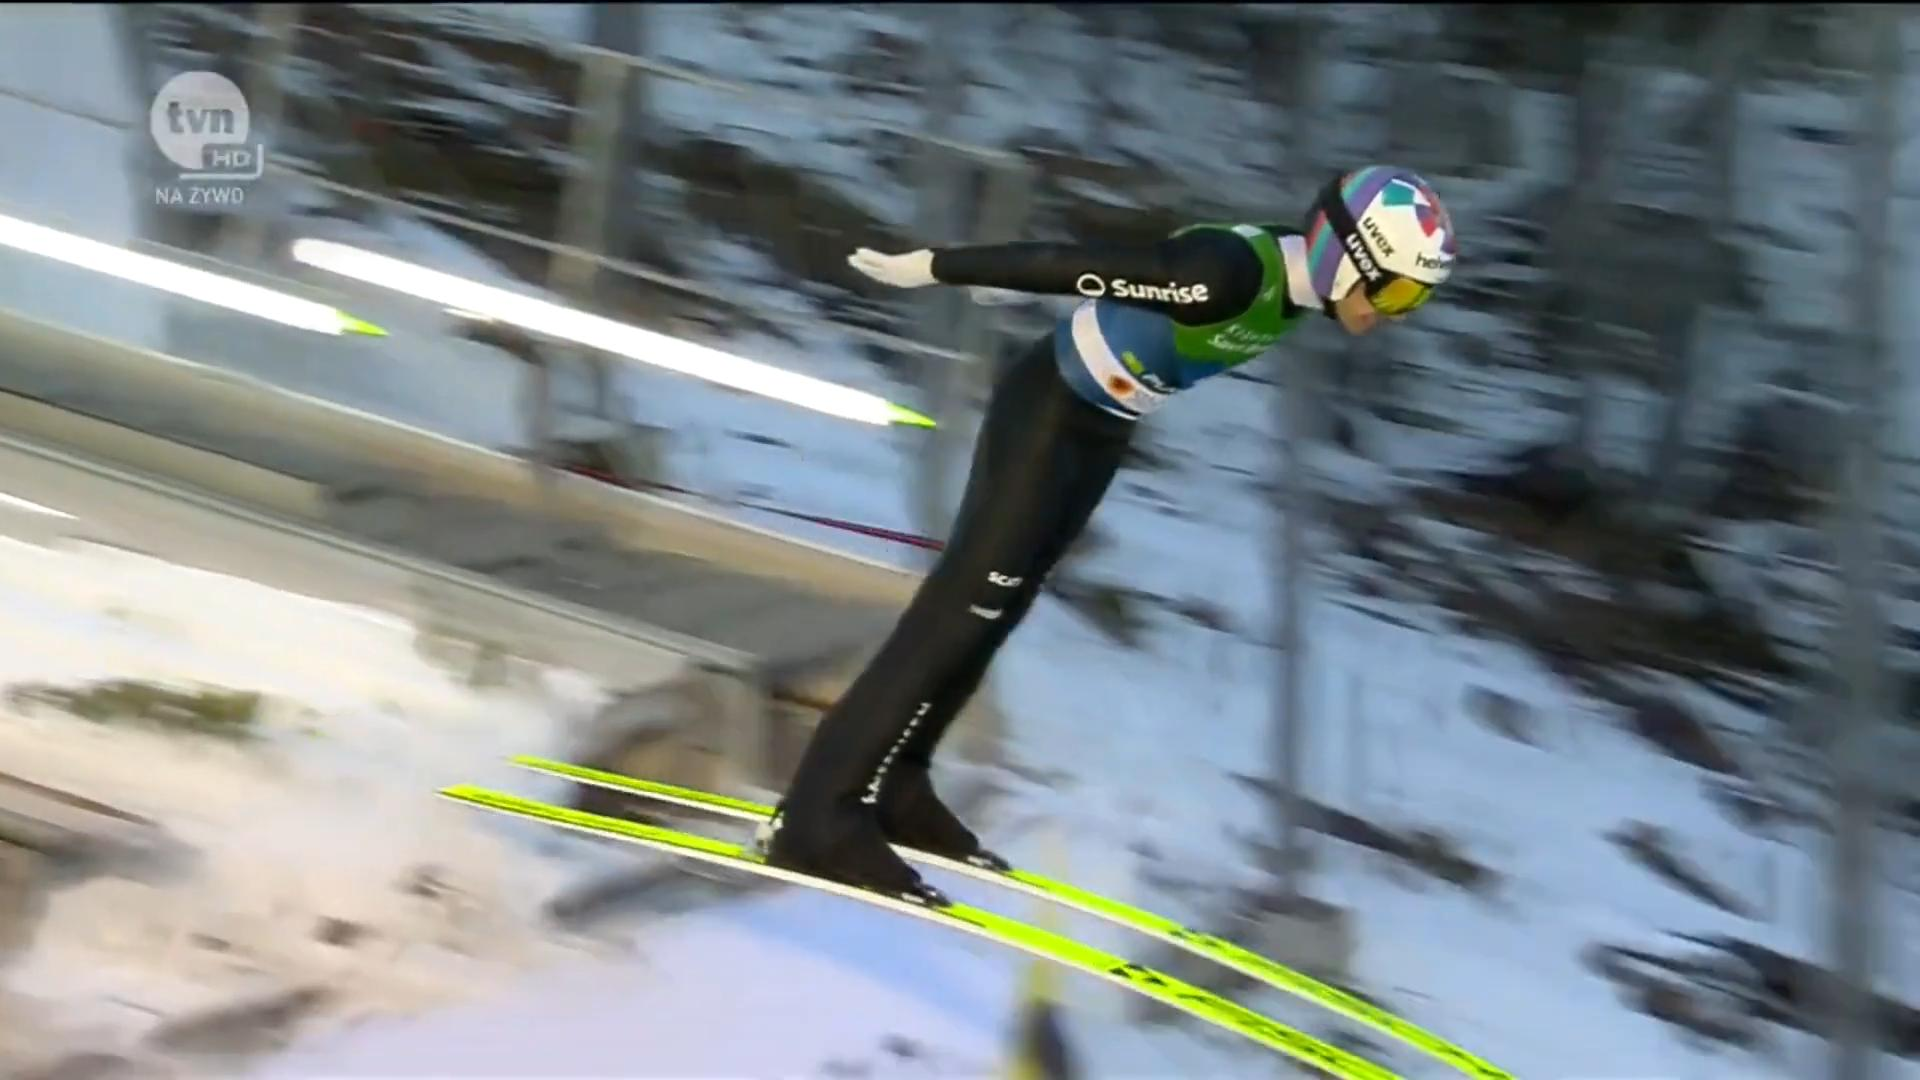prog: (595, 625, 903, 735)
